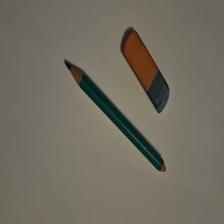eraser: (122, 31, 171, 115)
pencil: (65, 62, 167, 174)
